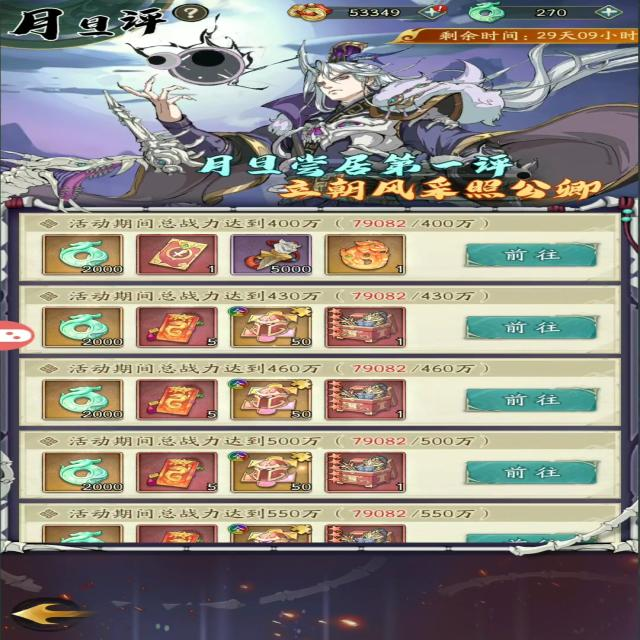hint-reddot: (430, 1, 447, 14)
operation-back: (6, 600, 107, 628)
operation-confirm: (448, 457, 614, 490), (462, 309, 601, 344), (462, 385, 614, 416), (458, 243, 604, 274)
operation-rule: (164, 1, 213, 23)
ref-buytext: (44, 215, 464, 239), (38, 290, 498, 310), (47, 363, 486, 382), (39, 508, 494, 526), (39, 434, 484, 451)
